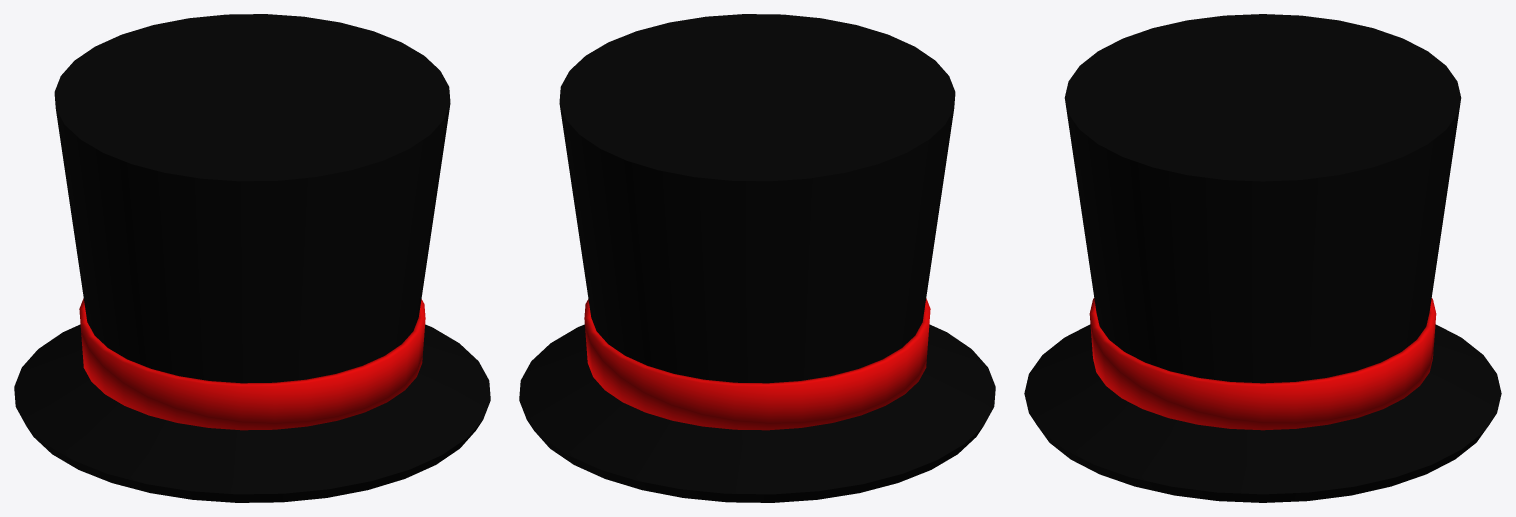
Rendered from Top Hat.fbx.
The picture shows the model from 3 angles, left to right: view 1: azimuth 30°, elevation 25°; view 2: azimuth 150°, elevation 25°; view 3: azimuth 270°, elevation 25°; orthographic projection.
Parts seen in each view (by area): view 1: Circle, Circle.001; view 2: Circle, Circle.001; view 3: Circle, Circle.001.
Part boxes in pixels (x1,y1,x2,y2): Circle: (14, 14, 490, 502); Circle.001: (79, 298, 425, 430); Circle: (519, 14, 995, 502); Circle.001: (584, 298, 930, 430); Circle: (1024, 14, 1501, 502); Circle.001: (1089, 298, 1436, 430).
Size of the model in its own units: 195 by 138 by 195.
